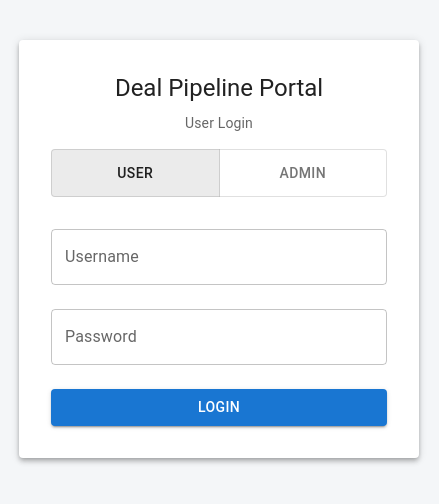
Login component › shows validation errors on empty submit
Click the button "Login" at (219,407), box [51,389,387,426]
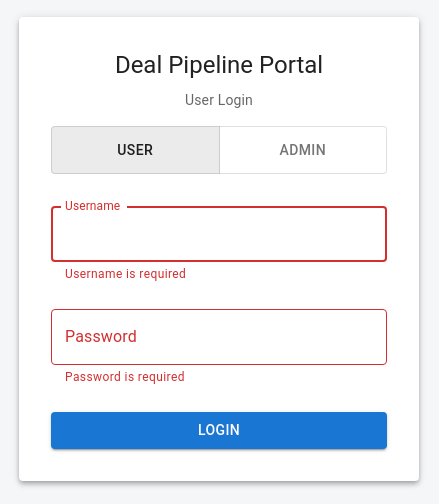
Result: the text "Username is required" is shown at [65,267,186,281]
Result: the text "Password is required" is shown at [65,370,185,384]
